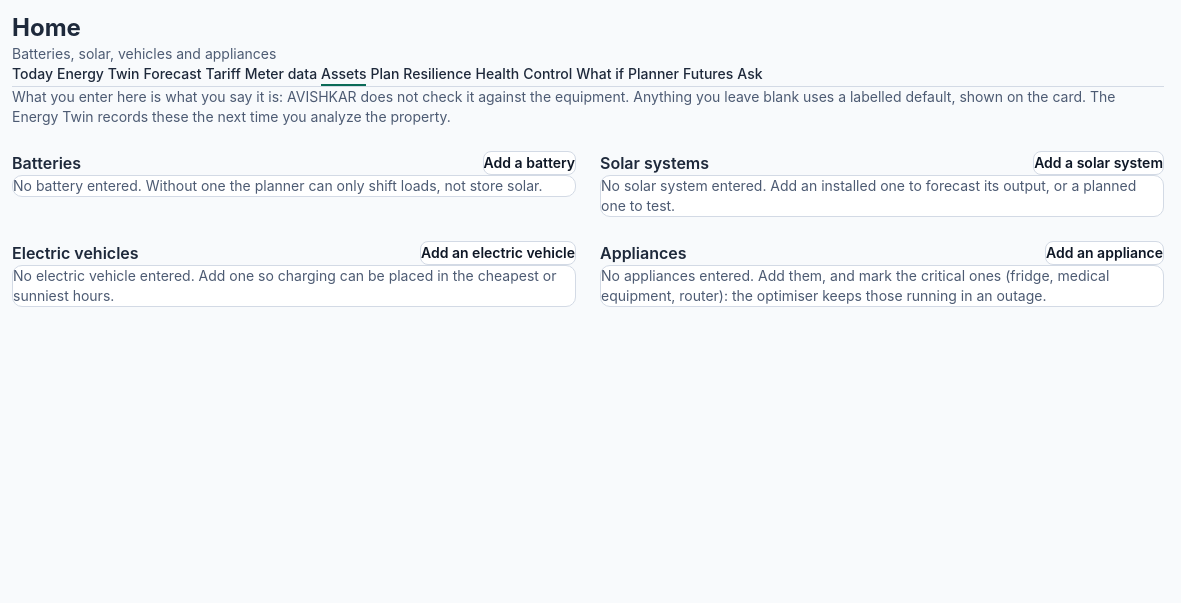
AssetsView › adds a battery, shows it, and tells the person the Energy Twin needs a new analysis
Click the button "Add a battery" at (529, 163), box left=483, top=151, right=576, bottom=175
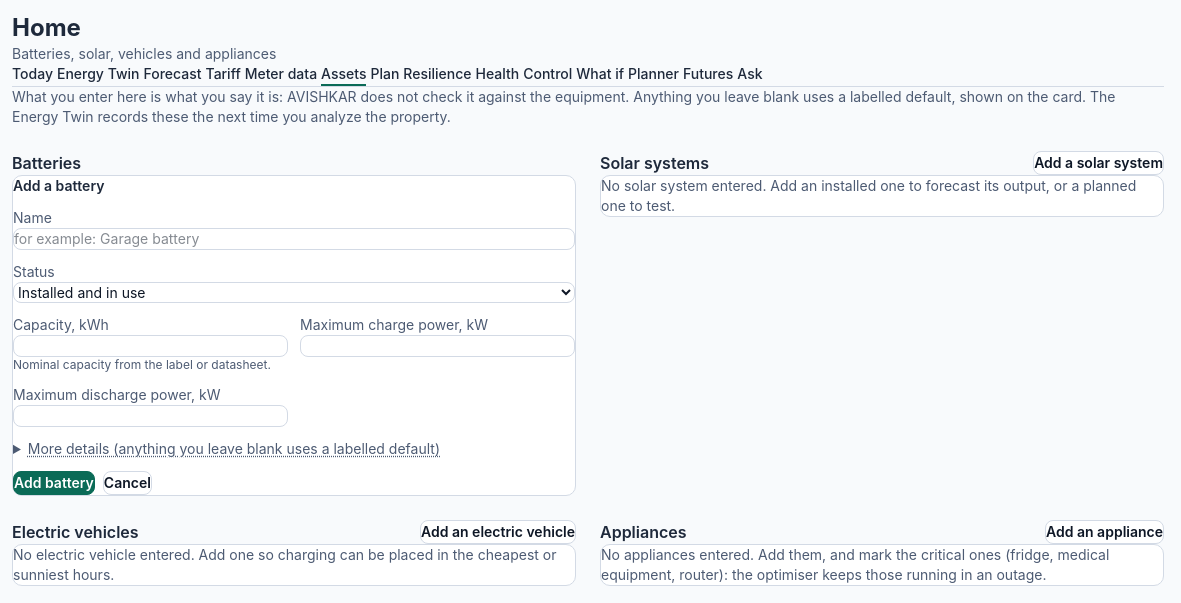
Type "Wall battery" into the field labelled "Name" at (294, 239), box left=13, top=228, right=575, bottom=250
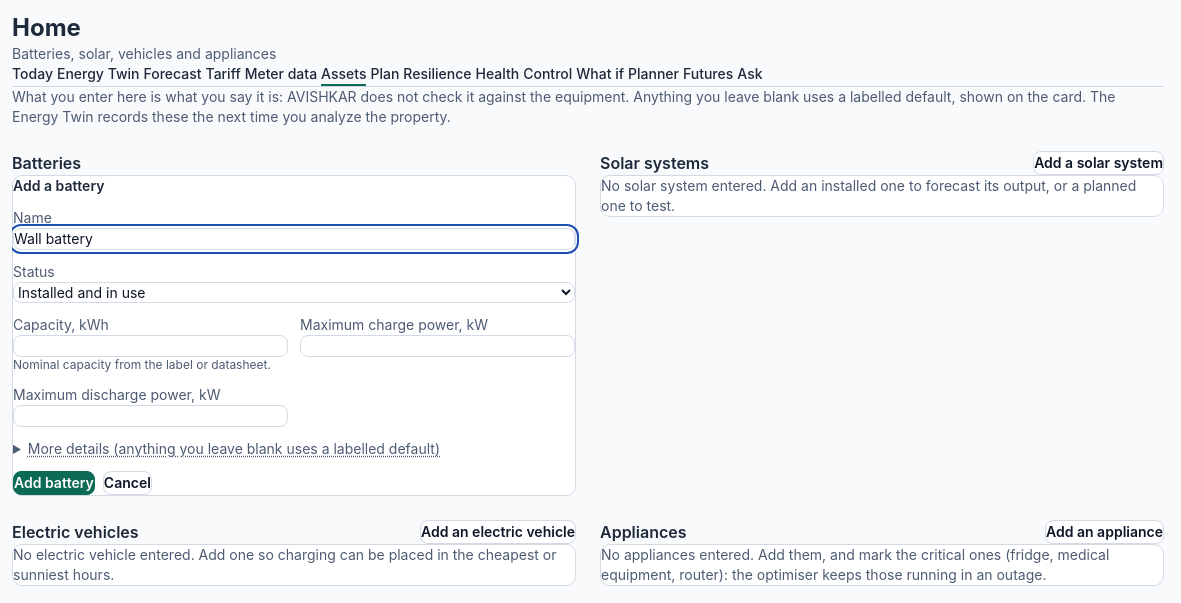
Type "13.5" into the field labelled "Capacity, kWh" at (150, 346), box left=13, top=335, right=288, bottom=357
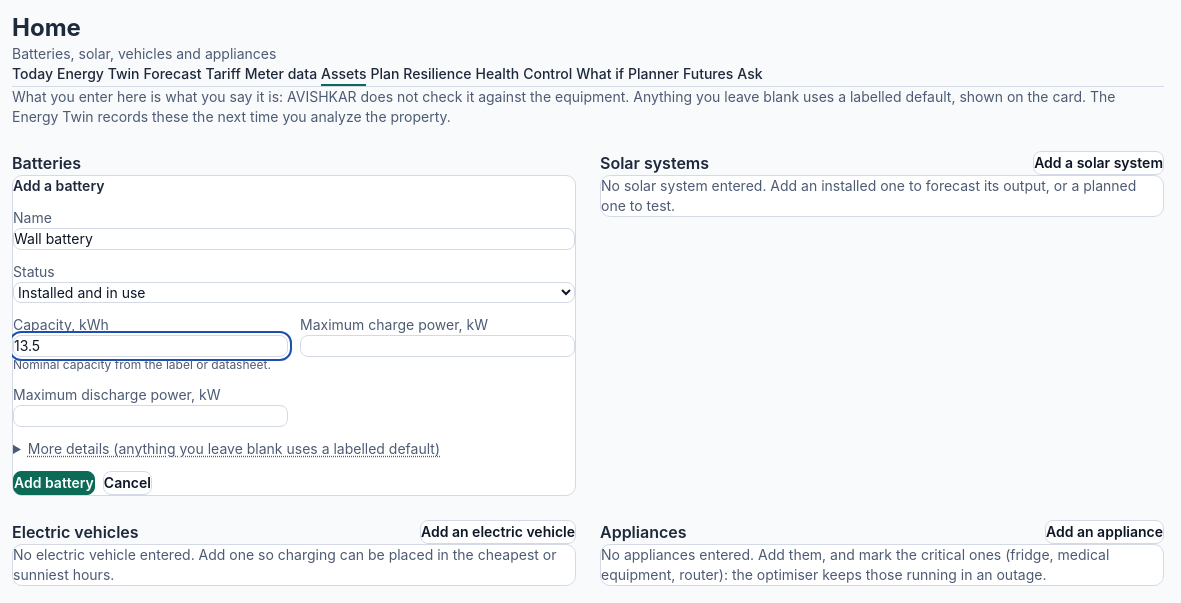
Type "5" into the field labelled "Maximum charge power, kW" at (438, 346), box left=300, top=335, right=575, bottom=357
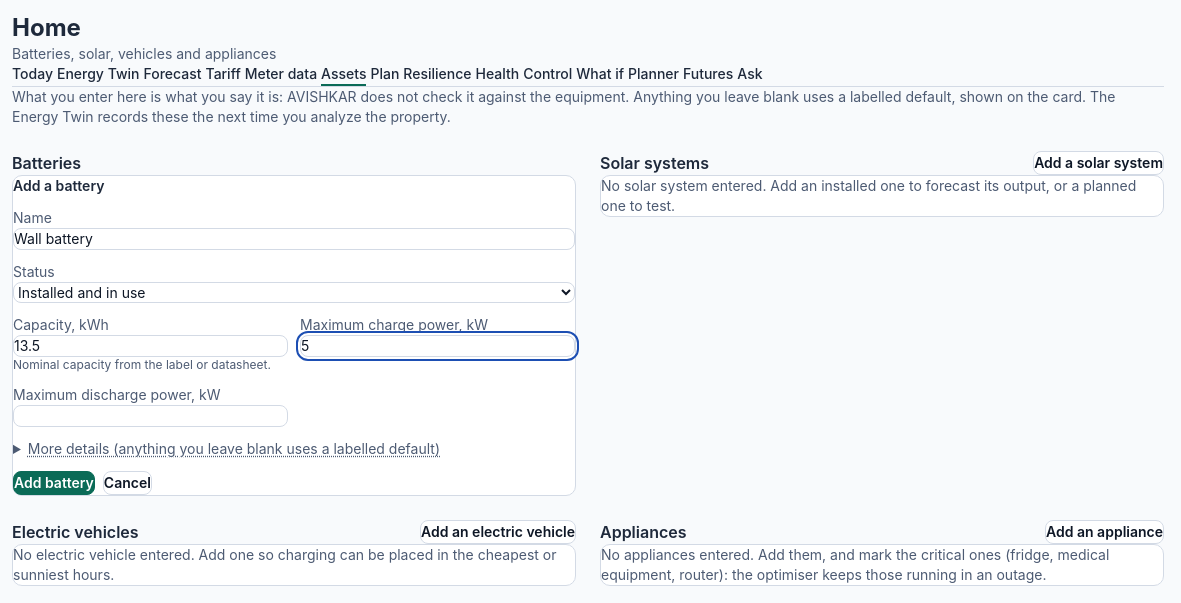
Type "5" into the field labelled "Maximum discharge power, kW" at (150, 416), box left=13, top=405, right=288, bottom=427
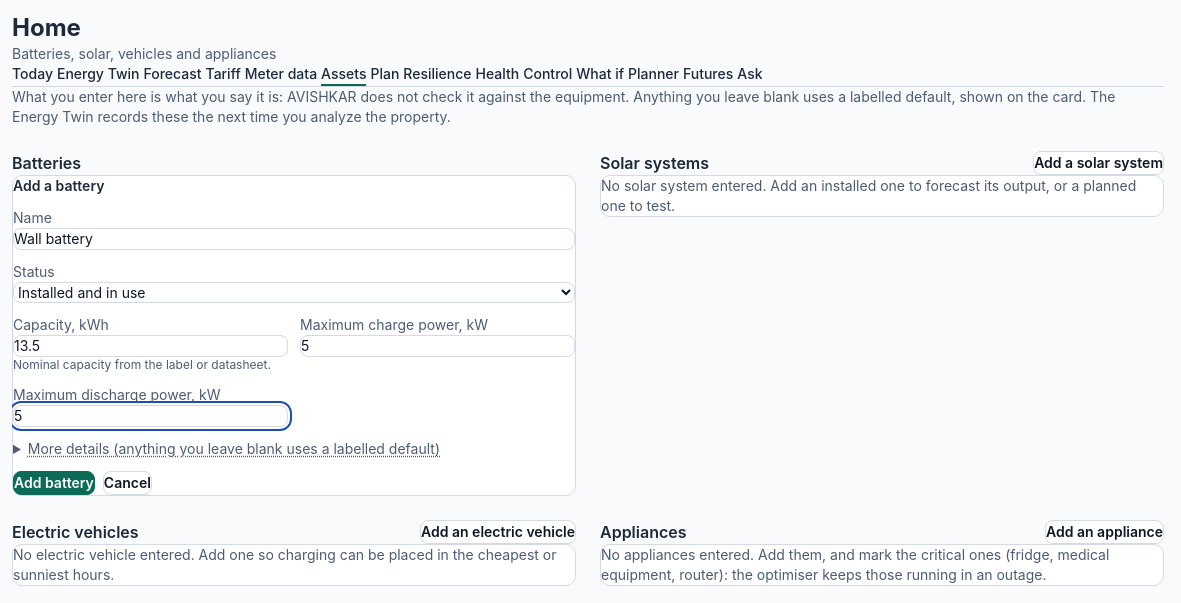
Click the button "Add battery" at (54, 483), box left=13, top=471, right=95, bottom=495
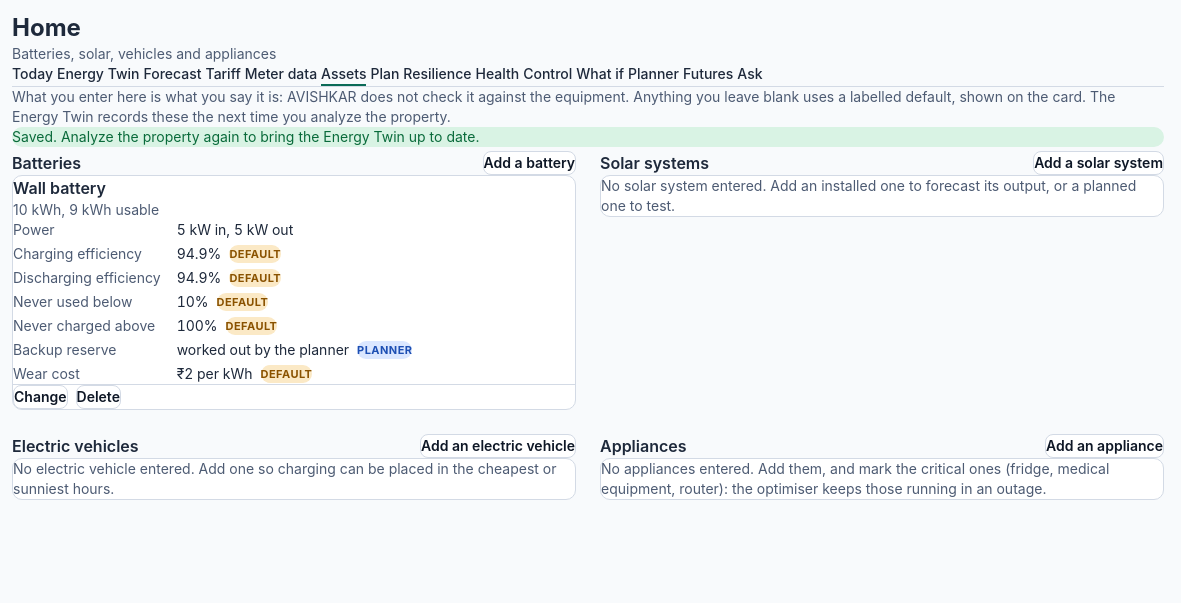
Result: the element "Wall battery" is shown at left=12, top=175, right=576, bottom=410
Result: the text "Saved. Analyze the property again to bring the Energy Twin up to date." is shown at left=12, top=127, right=1164, bottom=147
